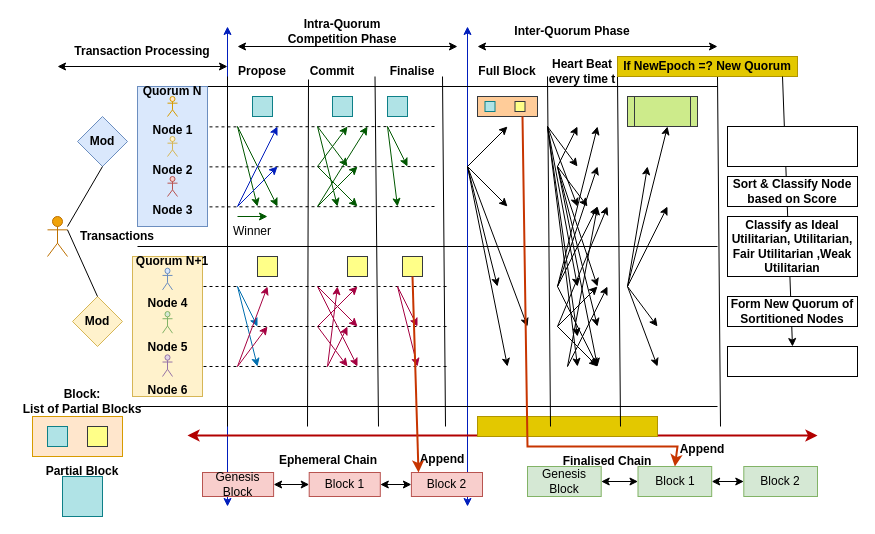
Some shapes in this 875 by 534 pixel diagram are drawn without their labels. The box of each missing label's shape, as (x1, y1, x2, y2) in pixels:
Calculate Fair Utilitarian Score of Each Node: (726, 126, 858, 166)
Client: (46, 216, 68, 256)
If Low Score Suspend Node: (726, 346, 858, 376)
If Timeout =? Round Change: (476, 416, 658, 436)
List of T xs: (62, 476, 102, 516)
New Quorum: (626, 96, 698, 126)
